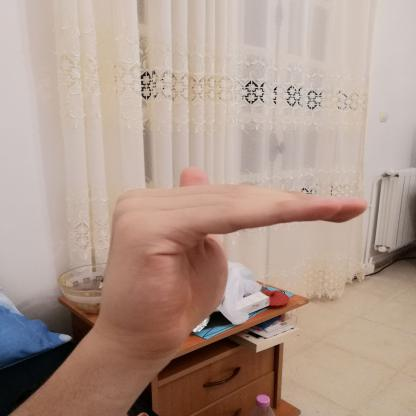KHAA: (89, 159, 384, 357)
